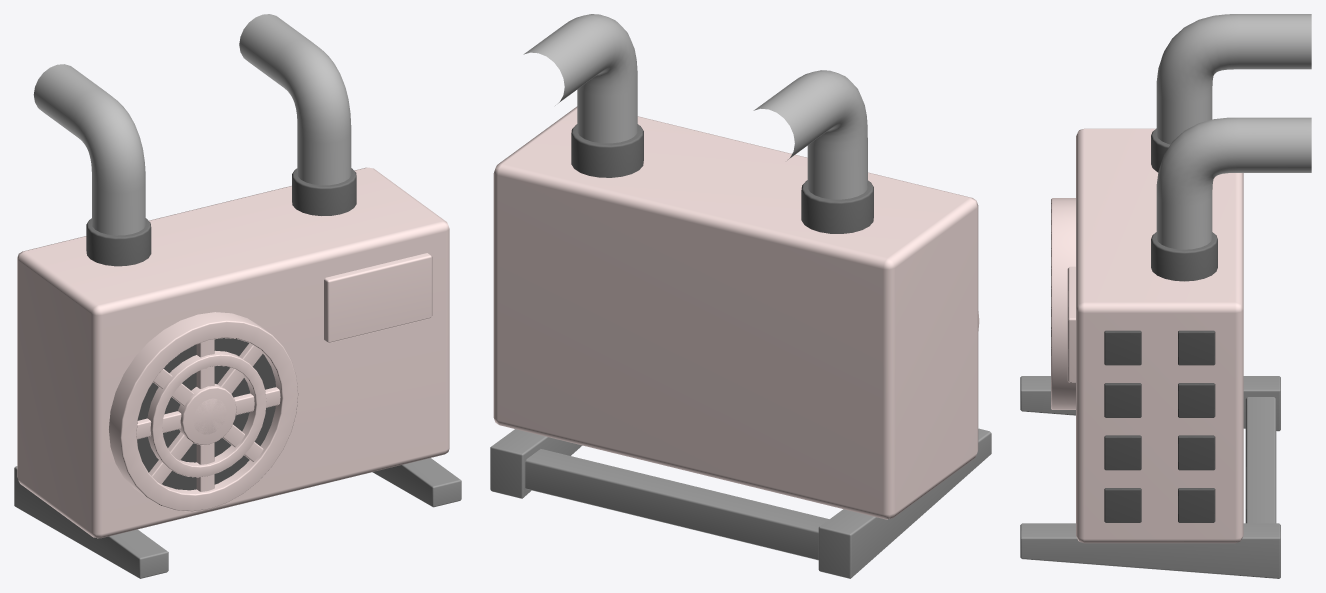
The model's file is City_15_Outdoor_Air_Conditioning_2.glb.
The picture shows the model from 3 angles, left to right: view 1: azimuth 30°, elevation 25°; view 2: azimuth 150°, elevation 25°; view 3: azimuth 270°, elevation 25°; orthographic projection. The views are drawn at different scales.
Parts seen in each view (by area): view 1: City_15_Outdoor_Air_Conditioning_2; view 2: City_15_Outdoor_Air_Conditioning_2; view 3: City_15_Outdoor_Air_Conditioning_2.
Part boxes in pixels (bbox=[...]): City_15_Outdoor_Air_Conditioning_2: bbox=[14, 14, 461, 578]; City_15_Outdoor_Air_Conditioning_2: bbox=[490, 14, 991, 578]; City_15_Outdoor_Air_Conditioning_2: bbox=[1020, 14, 1311, 578].
Bounding box in the file's own units: 1.64 × 1.8 × 1.11.
Materials: 1 (1 with a texture image).
